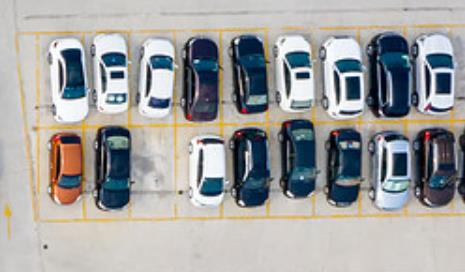car: (315, 34, 367, 122), (365, 31, 412, 121), (411, 30, 457, 117), (45, 36, 90, 124), (92, 124, 136, 212), (180, 34, 222, 125), (229, 127, 275, 210), (366, 130, 412, 213), (272, 33, 318, 114), (411, 127, 457, 208), (89, 32, 133, 116), (276, 119, 320, 202), (227, 32, 270, 115), (323, 125, 366, 208), (184, 131, 229, 210), (138, 36, 178, 118), (47, 132, 87, 206)
